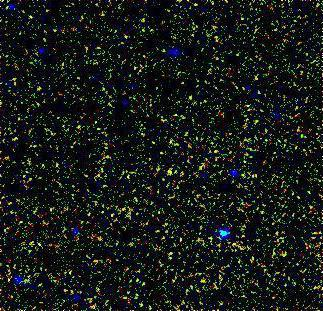star: (162, 158, 192, 188)
